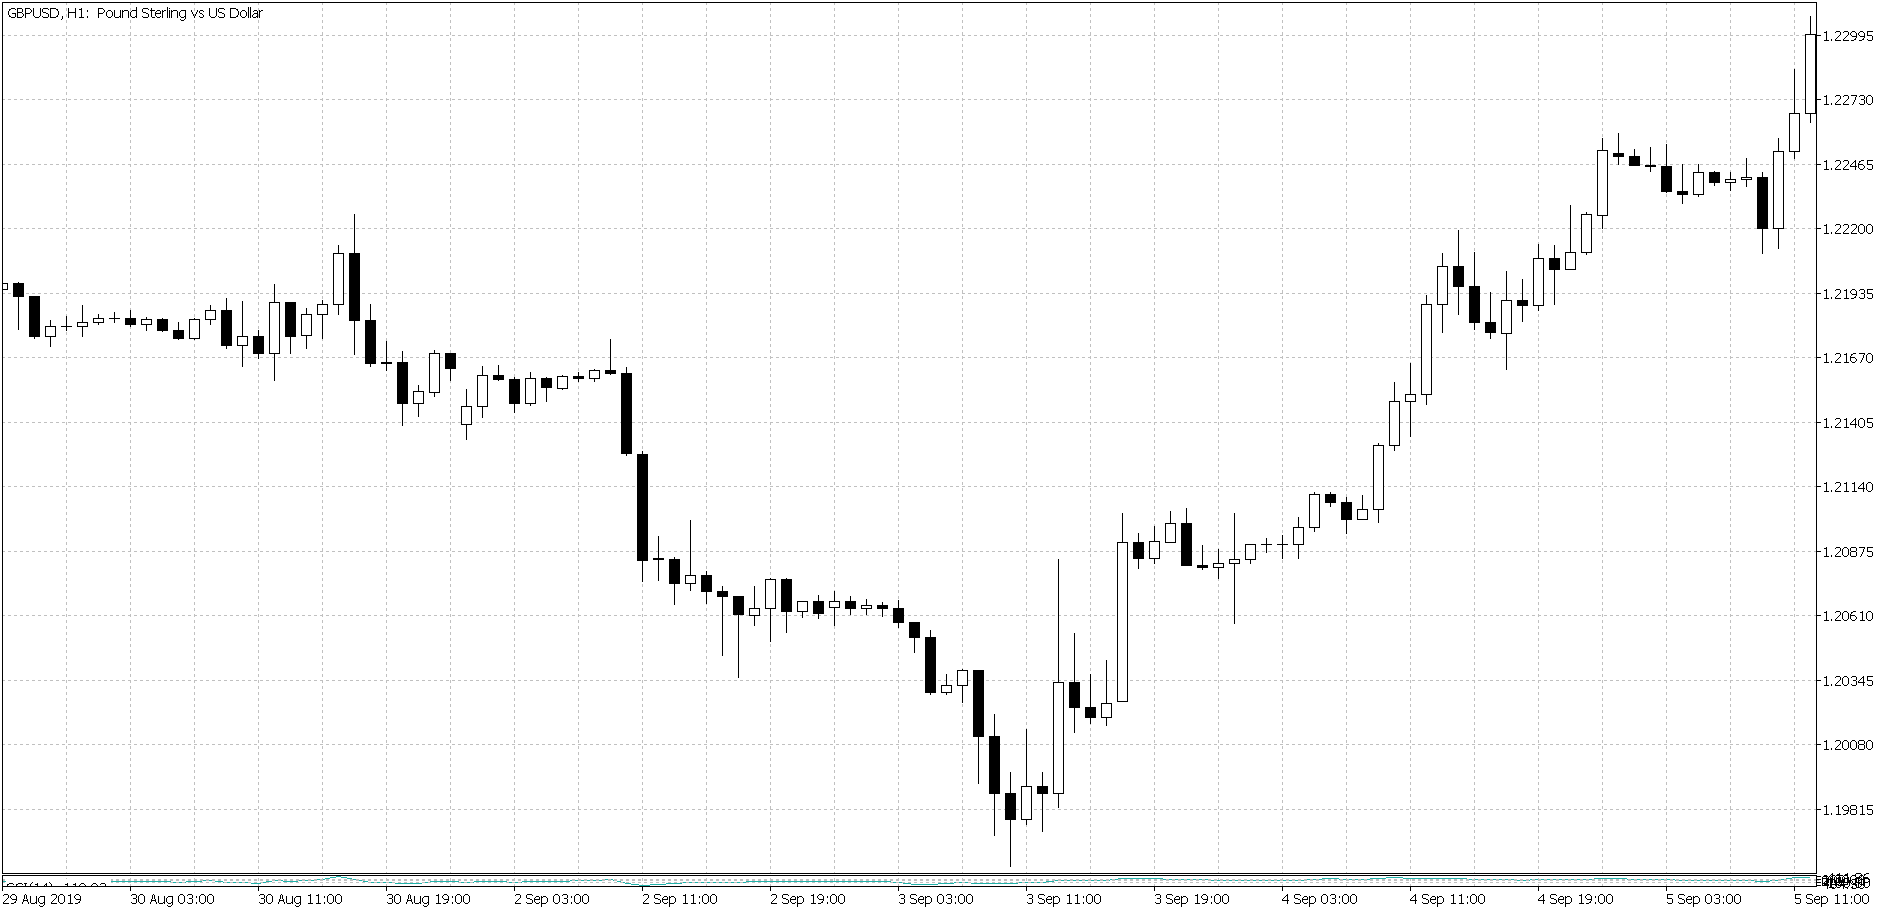3blackcrows: (969, 649, 1018, 871)
shootingStar: (604, 326, 617, 379)
